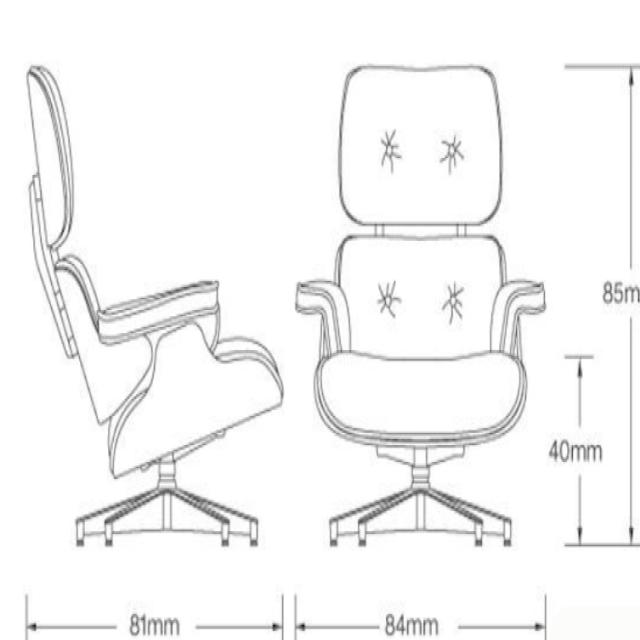5_Star_Base: (70, 474, 266, 554), (325, 471, 515, 553)
Armrest: (92, 264, 223, 355), (484, 272, 550, 366), (292, 273, 354, 364)
Backrest: (331, 227, 510, 366), (45, 241, 166, 434)
Headrest: (333, 55, 507, 244), (17, 53, 86, 262)
Seat: (98, 306, 293, 490), (309, 342, 531, 458)
